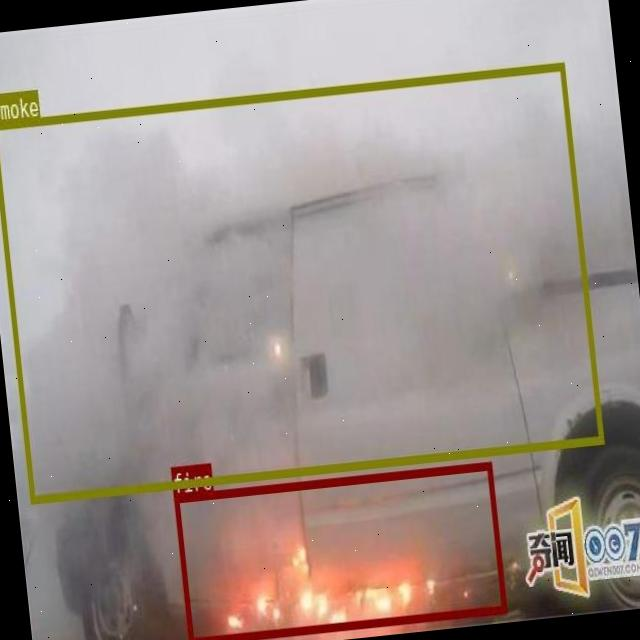fire: (172, 460, 505, 640)
smoke: (0, 61, 603, 501)
